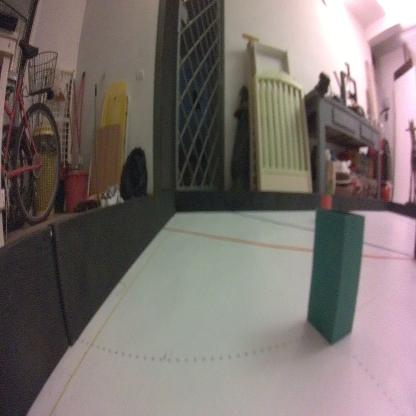green: (305, 206, 365, 344)
red: (319, 192, 332, 209)
